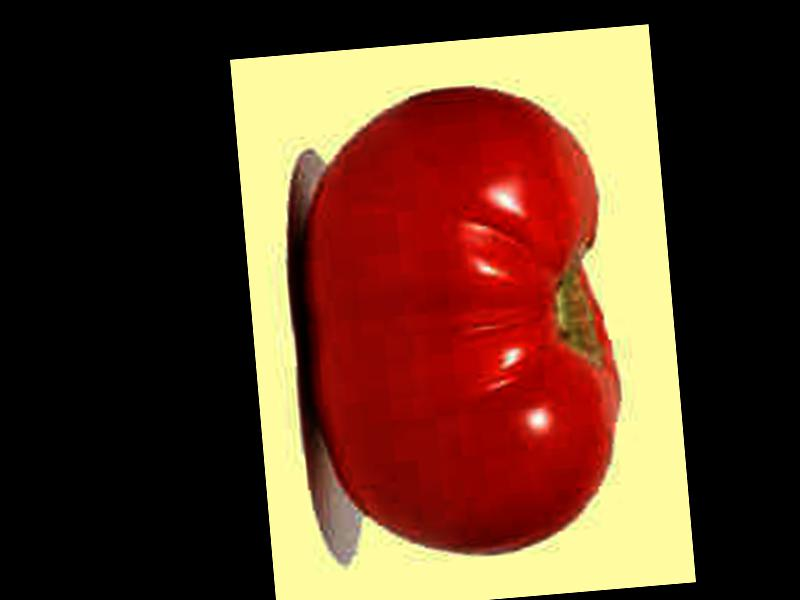Tomato: (289, 75, 633, 566)
